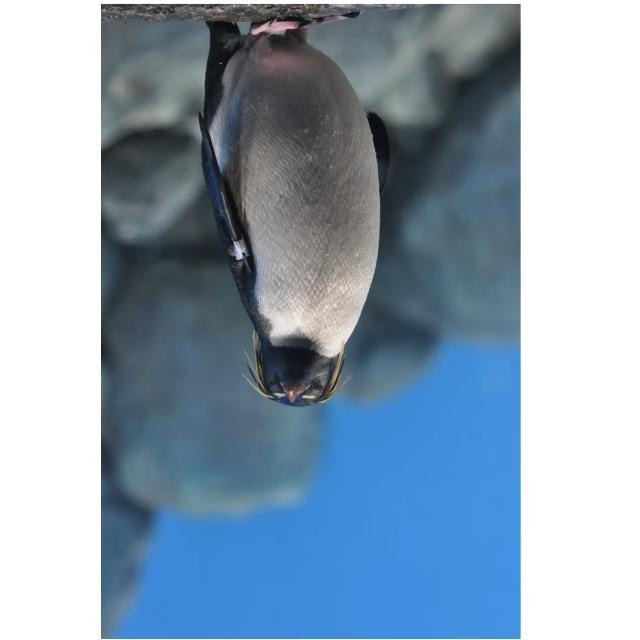penguin: (199, 13, 392, 407)
